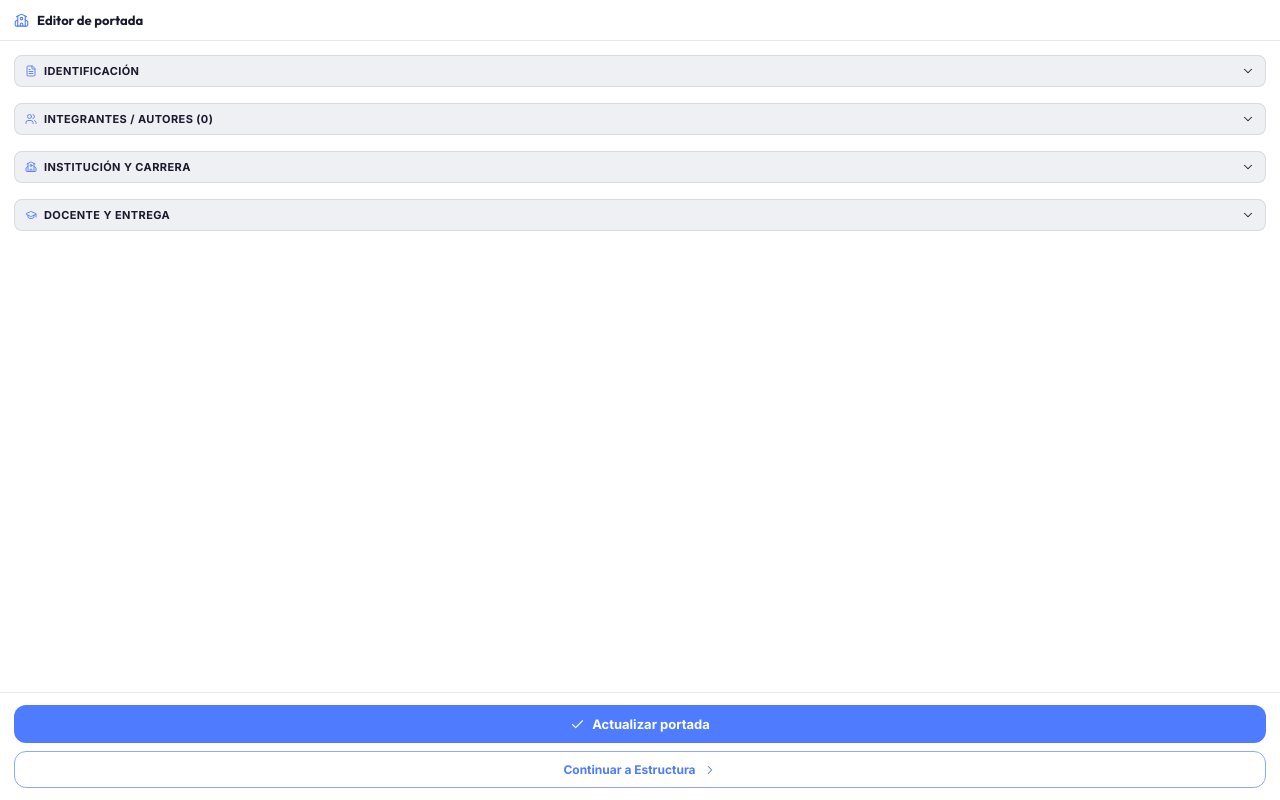
Scenario: editor de portada: datos inferidos y secciones › institución y carrera desconocidas no se muestran como campos vacíos
What coordinates should you click on to do the following:
click the button "Institución y carrera"
I would click on:
 (117, 167)
Its box is x1=14 y1=151 x2=1266 y2=183.
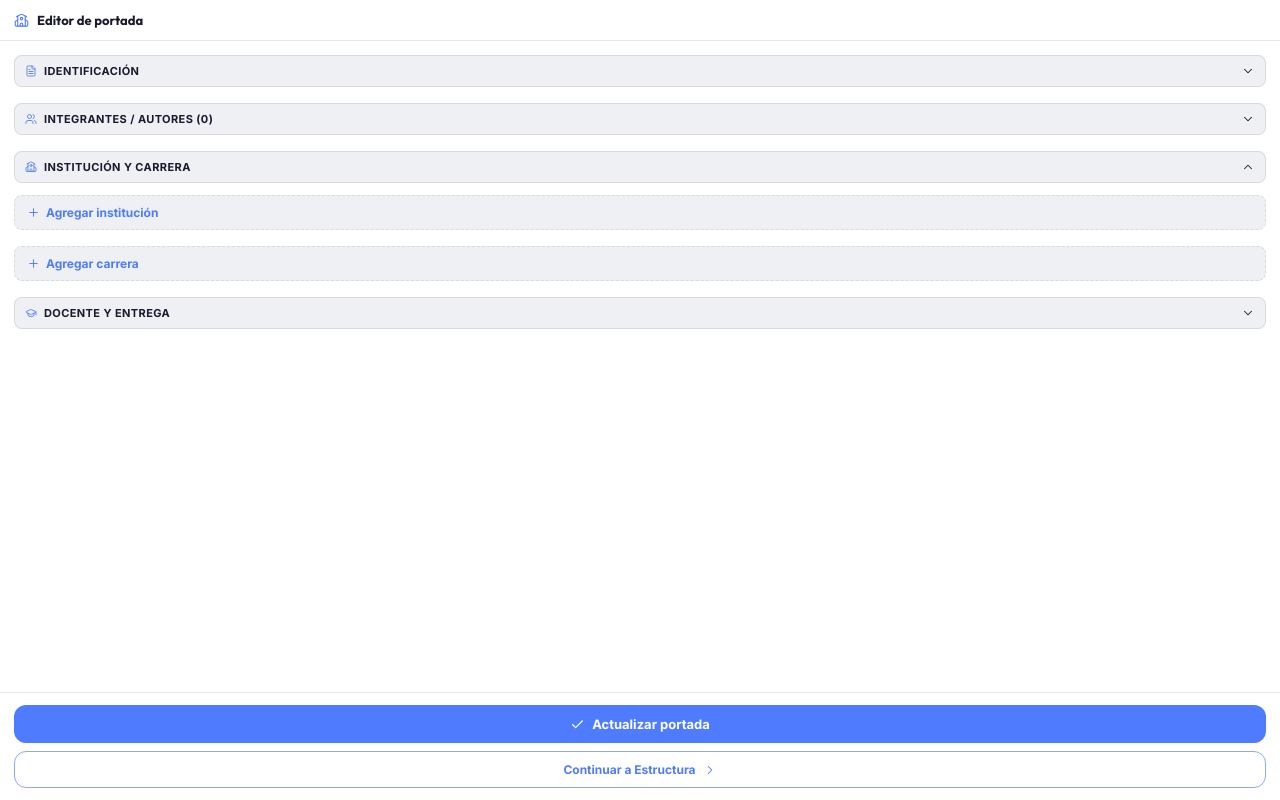
Check: the field with placeholder "Universidad o institución" is not shown
Check: the field with placeholder "Ingeniería Electrónica" is not shown
What coordinates should you click on to do the following:
click the button "Agregar institución"
I would click on:
 (102, 212)
Its box is x1=14 y1=195 x2=1266 y2=230.
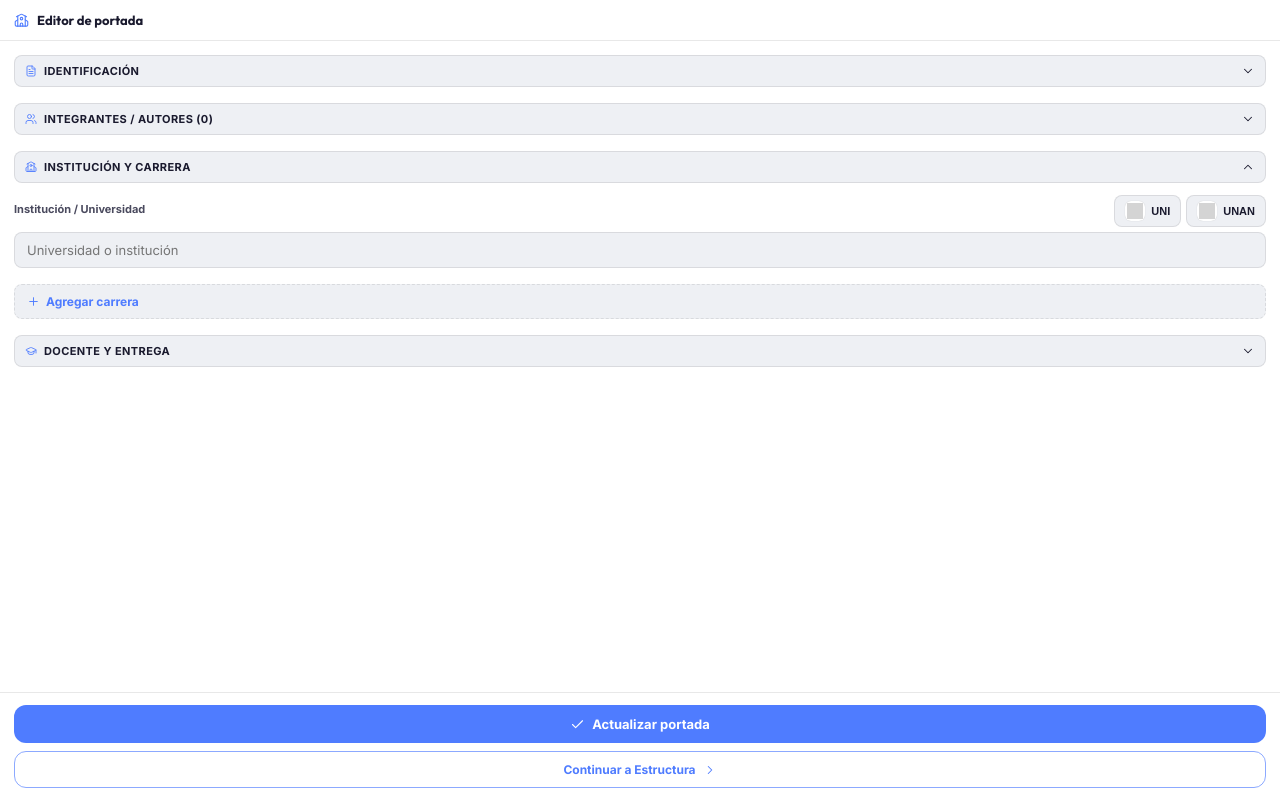
Check: the field with placeholder "Universidad o institución" is shown, box x1=14 y1=232 x2=1266 y2=268
What coordinates should you click on to do the following:
click the button "Agregar carrera"
I would click on:
 (92, 302)
Its box is x1=14 y1=284 x2=1266 y2=319.
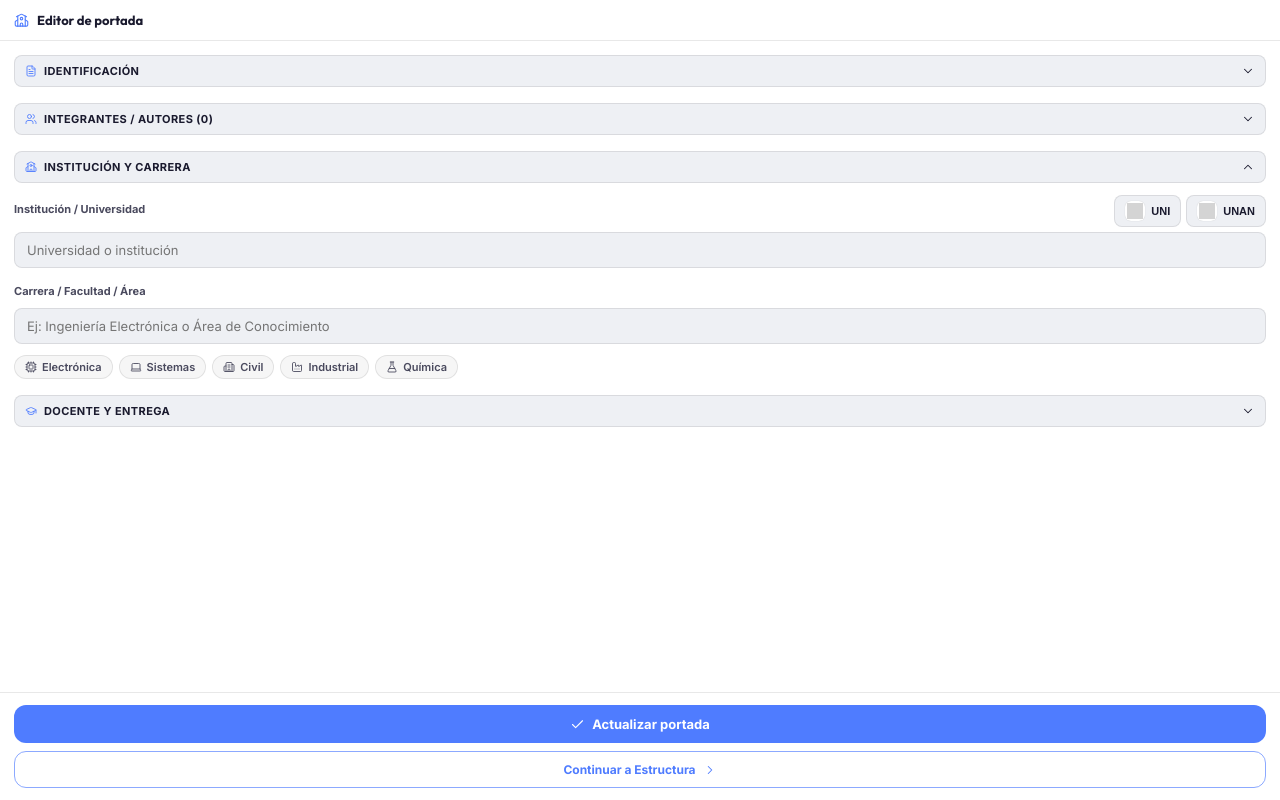
Check: the field with placeholder "Ej: Ingeniería Electrónica o Área de Conocimiento" is shown, box x1=14 y1=308 x2=1266 y2=344
